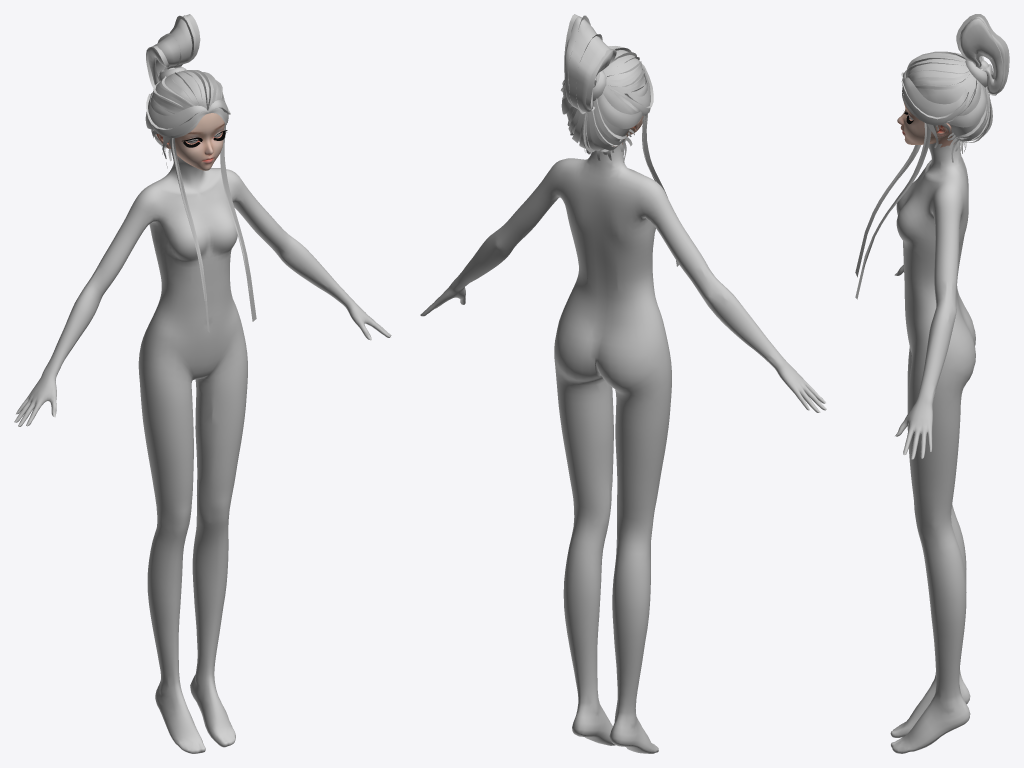
3 renders of one model, left to right at view 1: azimuth 30°, elevation 25°; view 2: azimuth 150°, elevation 25°; view 3: azimuth 270°, elevation 25°, orthographic. The views are drawn at different scales.
Parts seen in each view (by area): view 1: shenti_zh1, toufa, lian1; view 2: shenti_zh1, toufa; view 3: shenti_zh1, toufa, lian1.
Boxes of the visible parts, x1,y1,x2,y2 form: shenti_zh1: (14,156,391,753); toufa: (145,14,256,332); lian1: (156,113,224,170); shenti_zh1: (420,140,826,753); toufa: (560,14,678,266); shenti_zh1: (890,142,975,753); toufa: (855,14,1009,299); lian1: (897,102,954,147).
Size of the model in its own units: 101 by 182 by 34.73.
